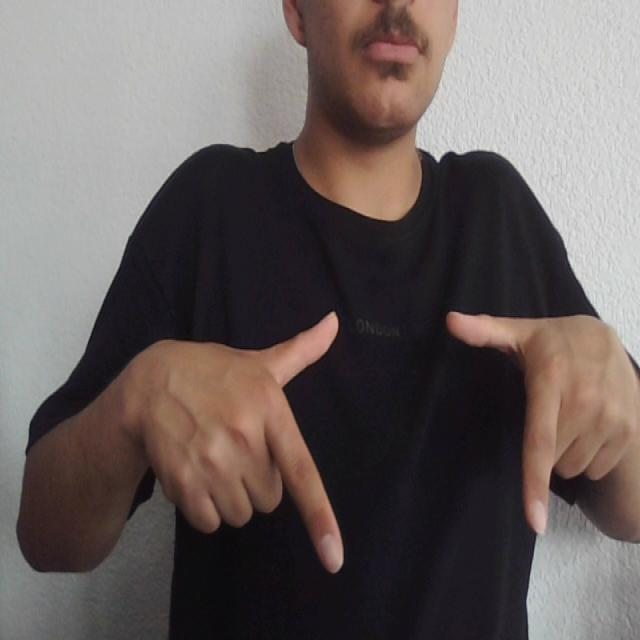Nerede: (256, 300, 569, 580)
